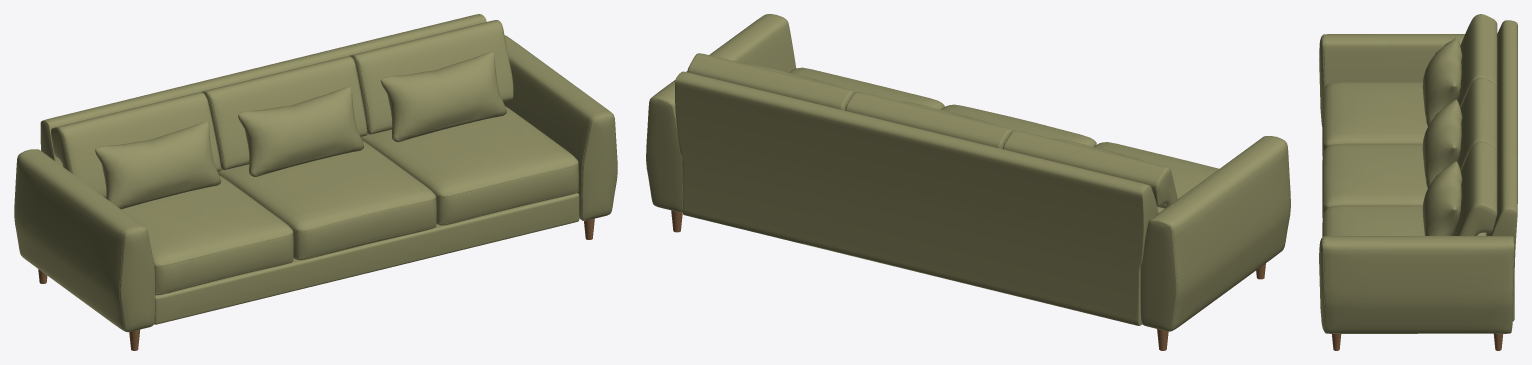
The model's file is ikea-slatorp.glb.
3 views of the same model, side by side, from view 1: azimuth 30°, elevation 25°; view 2: azimuth 150°, elevation 25°; view 3: azimuth 270°, elevation 25° (orthographic). The views are drawn at different scales.
Visible parts, largest first — view 1: 30594368_3_seat_sofa.001, 30594368_3_seat_sofa; view 2: 30594368_3_seat_sofa.001, 30594368_3_seat_sofa; view 3: 30594368_3_seat_sofa.001, 30594368_3_seat_sofa.
Boxes of the visible parts, x1,y1,x2,y2 form: 30594368_3_seat_sofa.001: [14, 14, 617, 332]; 30594368_3_seat_sofa: [38, 218, 594, 350]; 30594368_3_seat_sofa.001: [646, 14, 1290, 331]; 30594368_3_seat_sofa: [671, 210, 1265, 350]; 30594368_3_seat_sofa.001: [1319, 14, 1517, 333]; 30594368_3_seat_sofa: [1332, 333, 1503, 350].
Bounding box in the file's own units: 2.46 × 0.7503 × 0.9506.
Materials: 1 (1 with a texture image).
